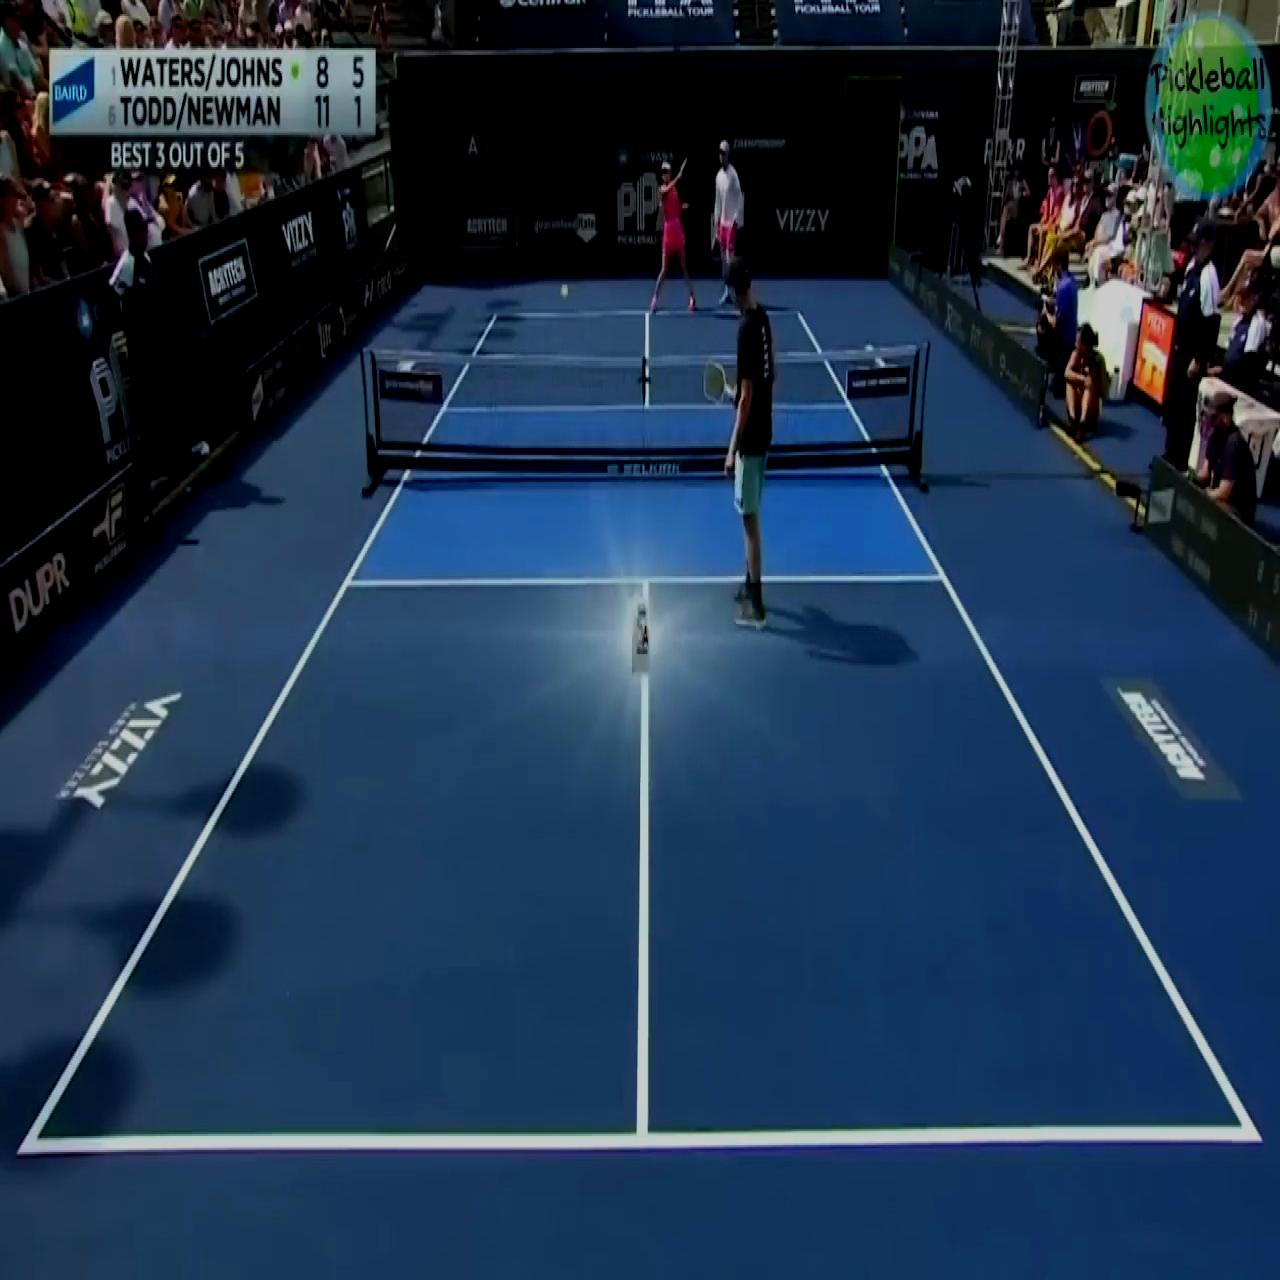Pickleball: (558, 279, 571, 304)
